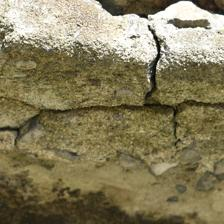Crack: (6, 98, 224, 134), (142, 25, 170, 103), (171, 110, 189, 161)
